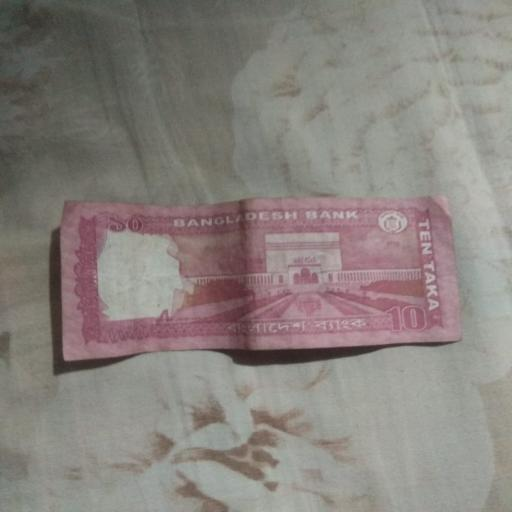10taka: (61, 196, 461, 360)
